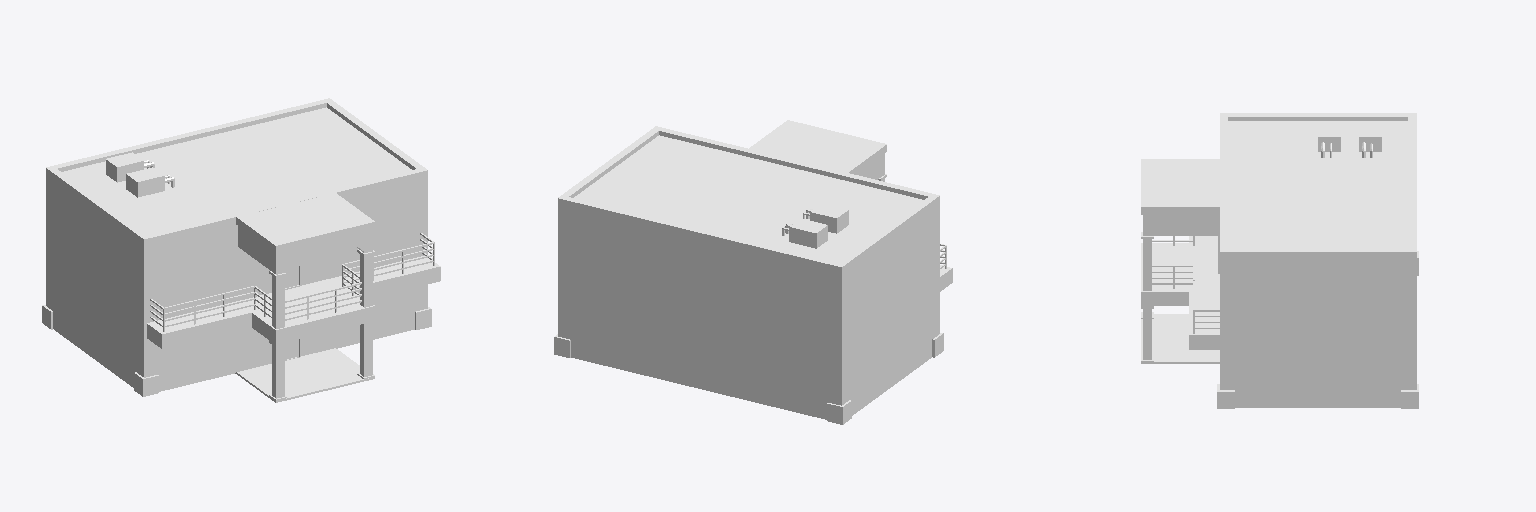
Rendered from Building_House_03_color01.obj.
The picture shows the model from 3 angles: view 1: azimuth 30°, elevation 25°; view 2: azimuth 150°, elevation 25°; view 3: azimuth 270°, elevation 25°; orthographic projection.
Bounding box in the file's own units: 1726 × 961 × 1441.